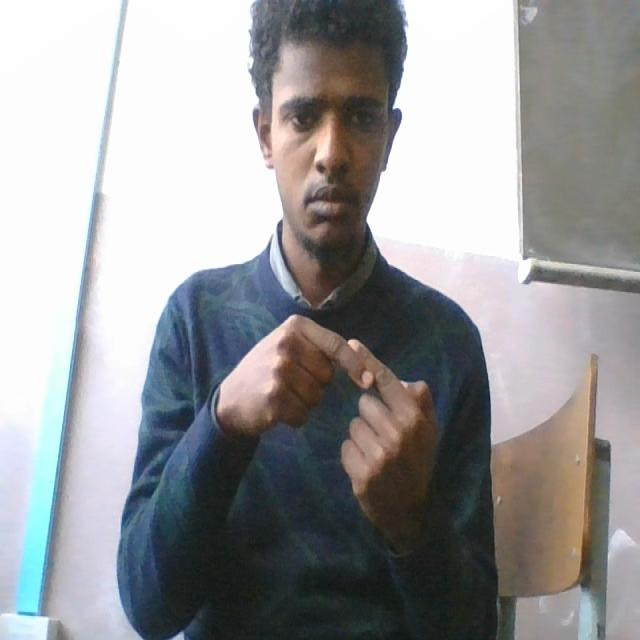eske: (223, 312, 447, 536)
